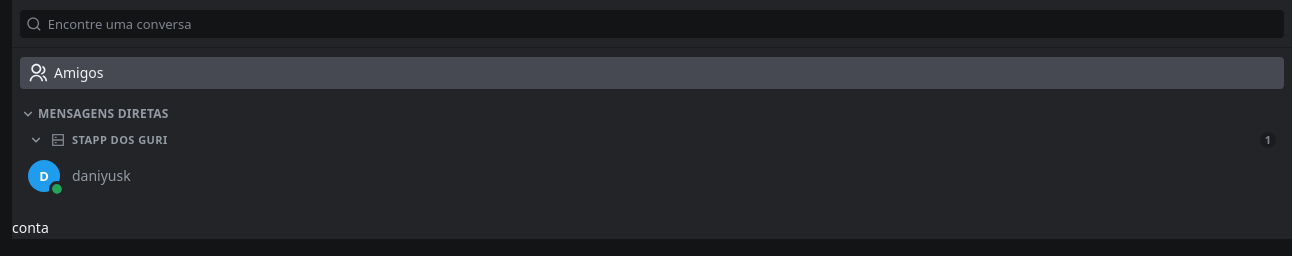
it: Sidebar › agrupa DMs por servidor e permite expandir/recolher com persistencia no localStorage
Check: the button "D daniyusk" is shown, box [20,155,1284,197]
Click the button "Stapp dos guri 1".
click(120, 140)  # box [20,126,1284,154]
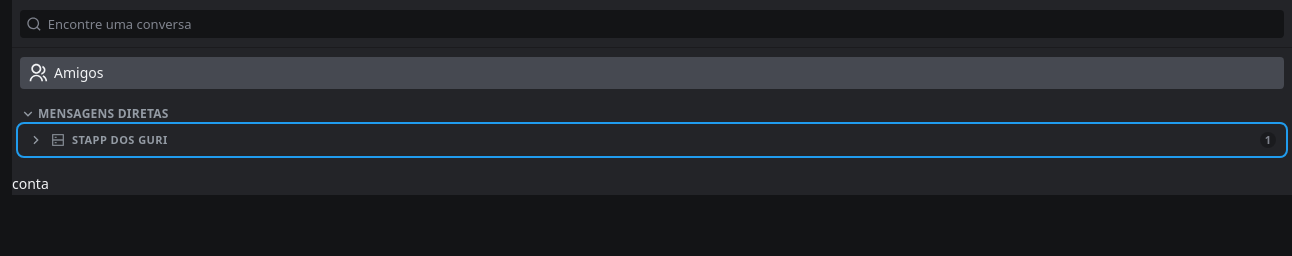
Check: the button "daniyusk" is gone
Click the button "Stapp dos guri 1".
click(120, 140)  # box [20,126,1284,154]
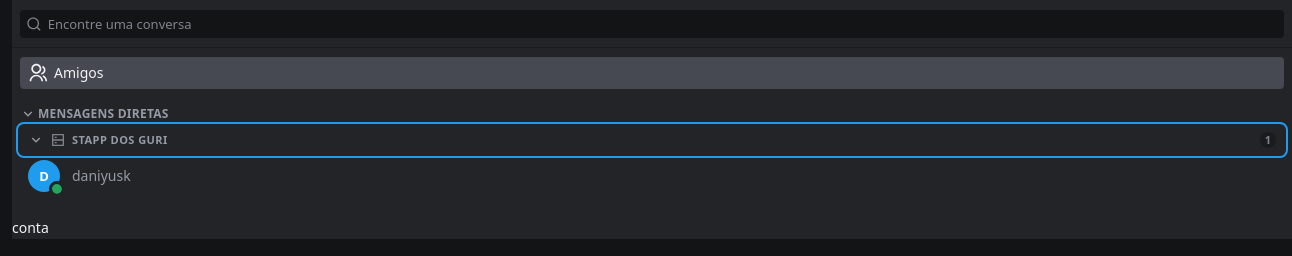
Check: the button "D daniyusk" is shown, box [20,155,1284,197]
